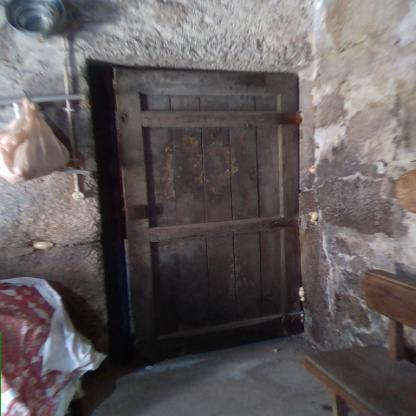closed: (120, 62, 320, 364)
